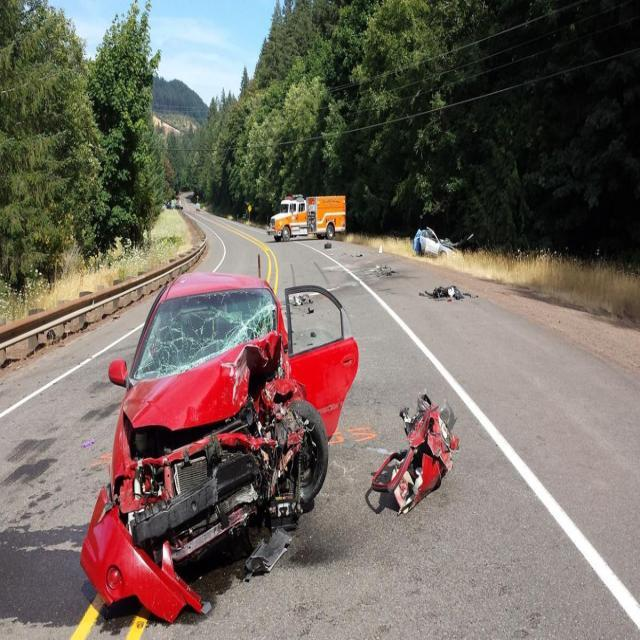accident: (80, 226, 478, 640)
